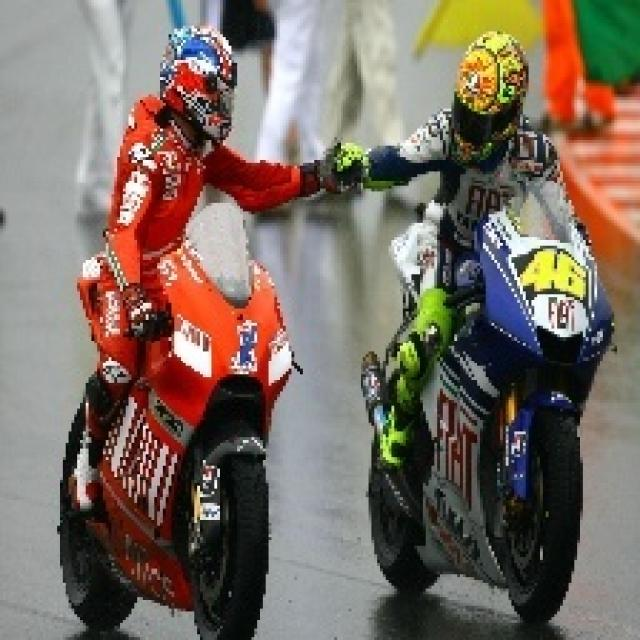motorace: (51, 27, 323, 640), (334, 6, 595, 640)
